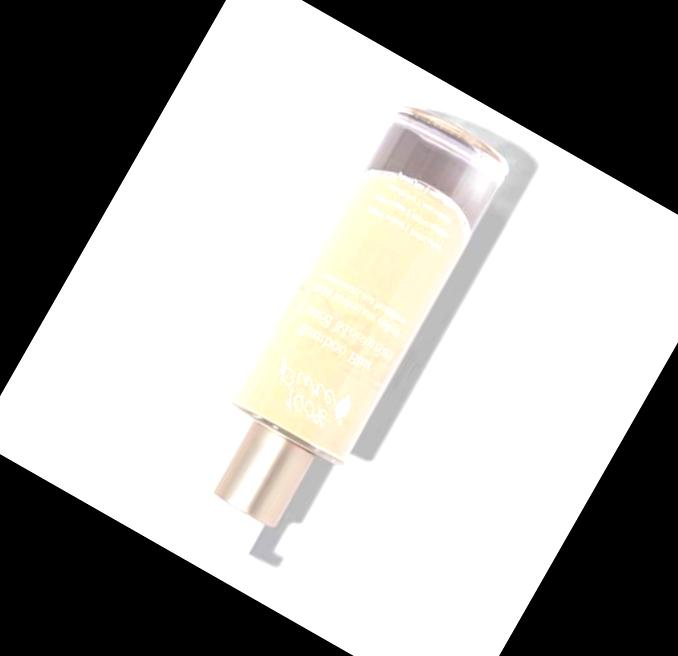cosmetic: (159, 102, 512, 584)
